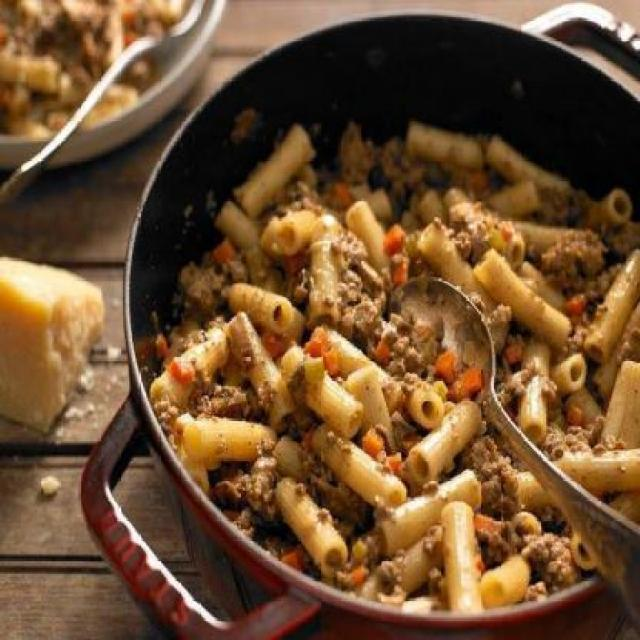Pasta al ragu: (168, 67, 626, 584)
